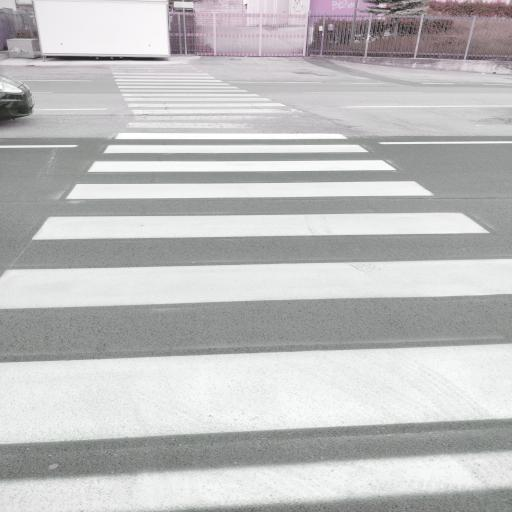crosswalk: (16, 178, 501, 248), (94, 130, 382, 156)
